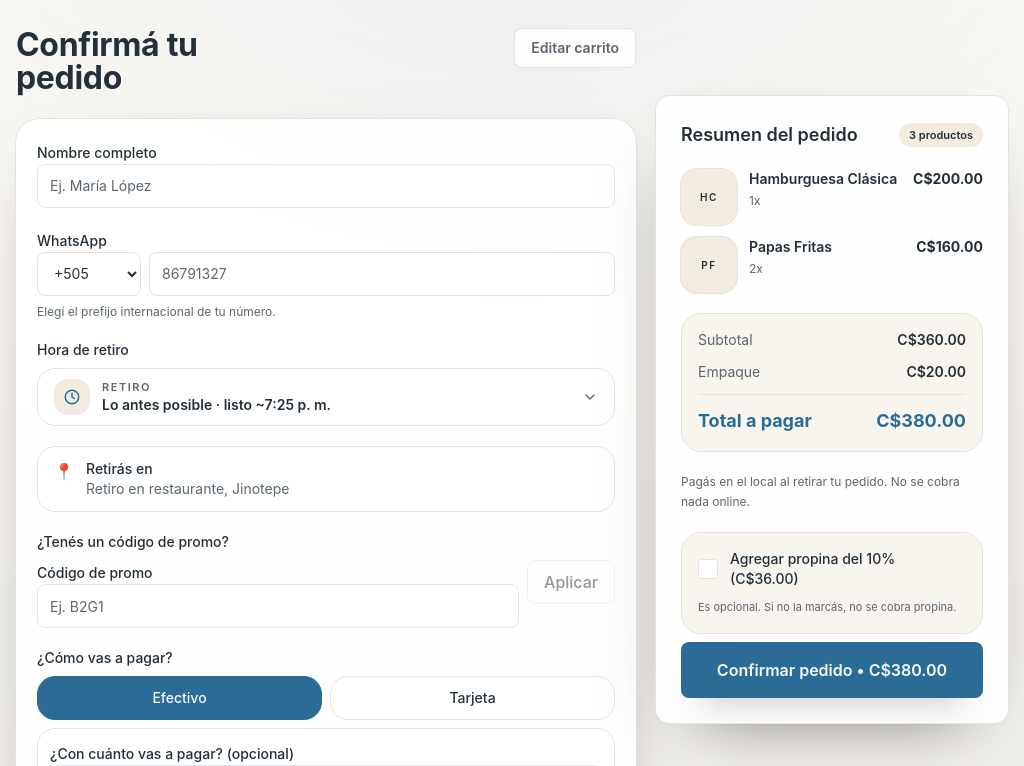
Test case: checkout sin redundancias › un código que no sirve se avisa antes de confirmar (T9b)
The width and height of the screenshot is (1024, 766).
In the field labelled "Código de promo": coordinates (278, 606) left=37, top=584, right=519, bottom=628, type "NOEXISTE"
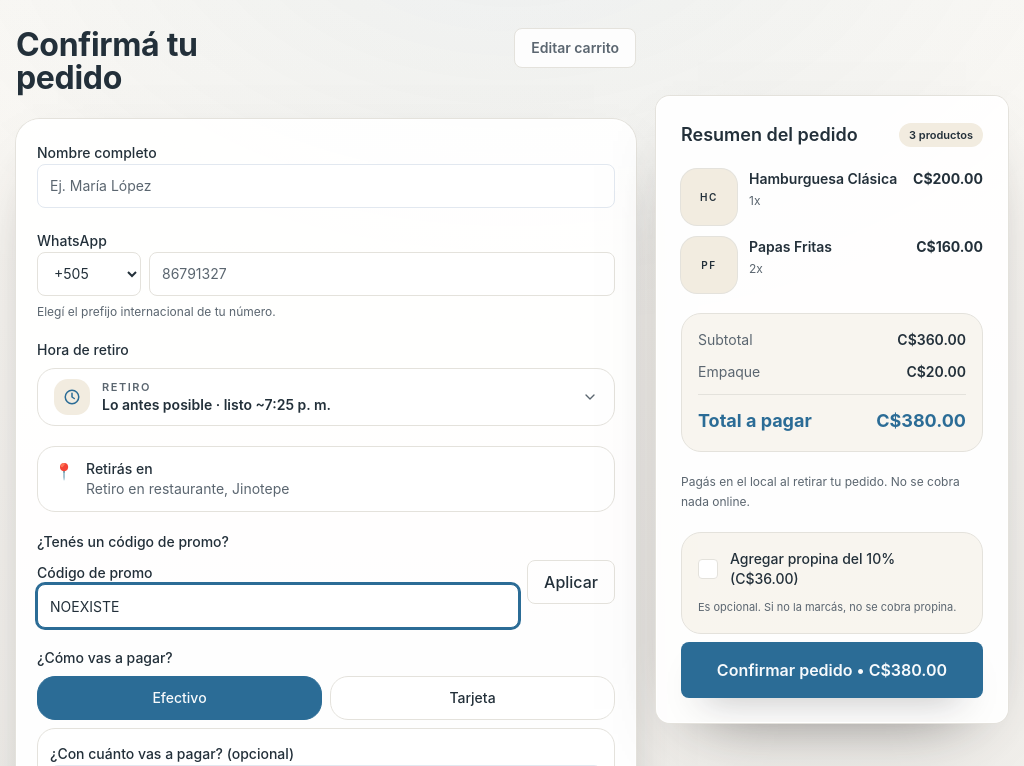
Click the button "Aplicar": coordinates (571, 582) left=527, top=560, right=615, bottom=604
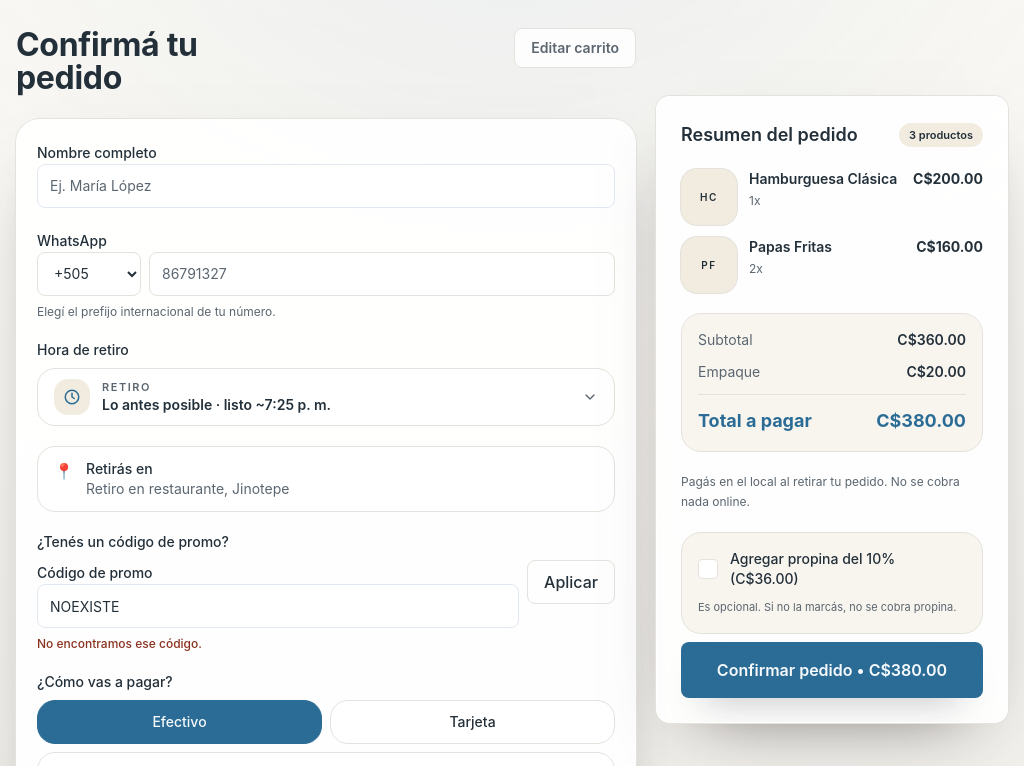
Expected: the text "No encontramos ese código." is shown, left=37, top=636, right=202, bottom=651
